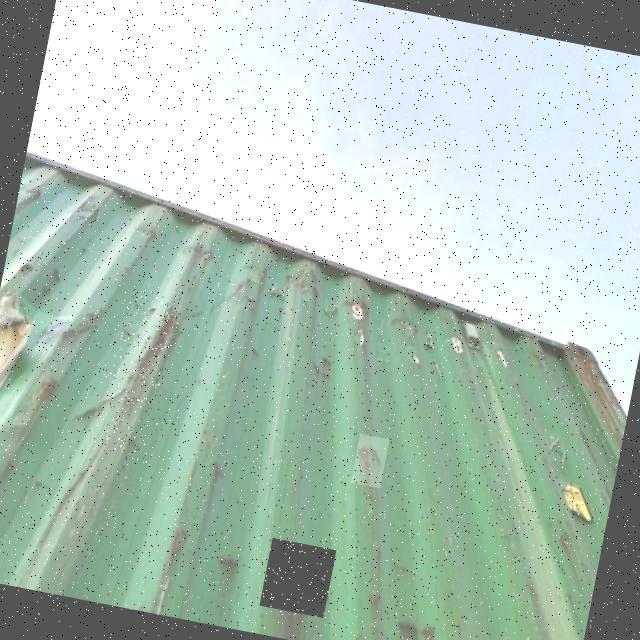Rust: (99, 288, 184, 464), (260, 538, 337, 618), (351, 434, 392, 489)
